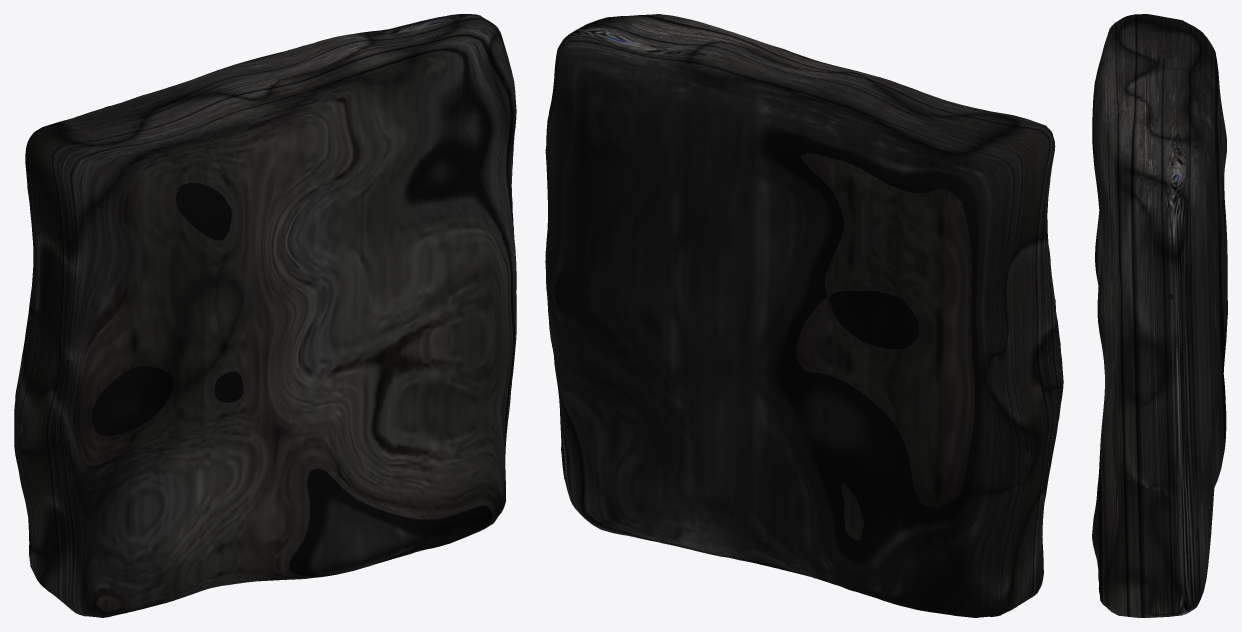
3 views of the same model, side by side, from view 1: azimuth 30°, elevation 25°; view 2: azimuth 150°, elevation 25°; view 3: azimuth 270°, elevation 25° (orthographic). The views are drawn at different scales.
Parts seen in each view (by area): view 1: Renderer Node; view 2: Renderer Node; view 3: Renderer Node.
Boxes of the visible parts, x1,y1,x2,y2 form: Renderer Node: (14, 14, 516, 617); Renderer Node: (545, 14, 1063, 617); Renderer Node: (1092, 14, 1227, 617).
Size of the model in its own units: 0.7248 by 0.7206 by 0.2005.
1 material, 1 textured.
